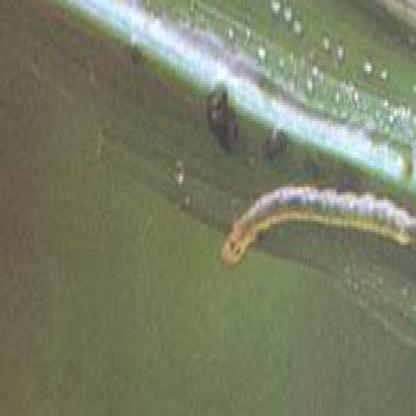leaf-folder: (216, 158, 416, 276)
